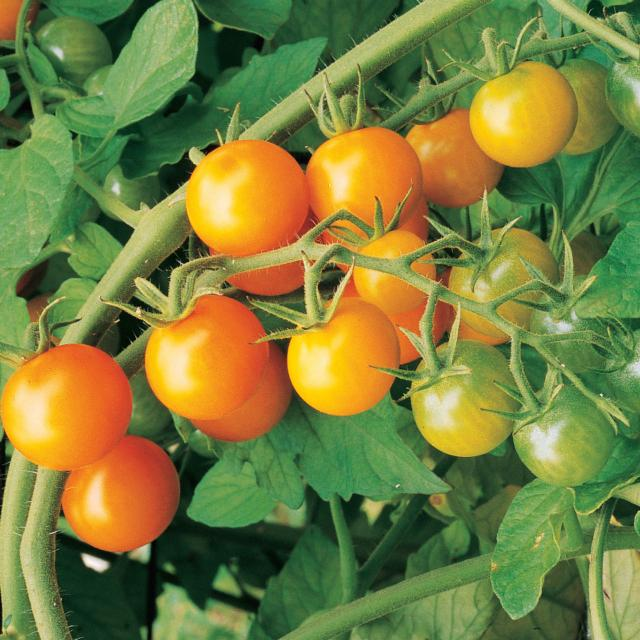fine: (2, 333, 128, 469), (145, 292, 272, 422), (56, 432, 186, 556), (181, 134, 308, 255), (286, 300, 400, 421), (464, 57, 580, 171), (307, 120, 423, 230), (400, 101, 509, 207), (350, 224, 439, 321)
unripe: (413, 336, 523, 464), (448, 225, 557, 342), (510, 382, 620, 487), (532, 272, 625, 368)
